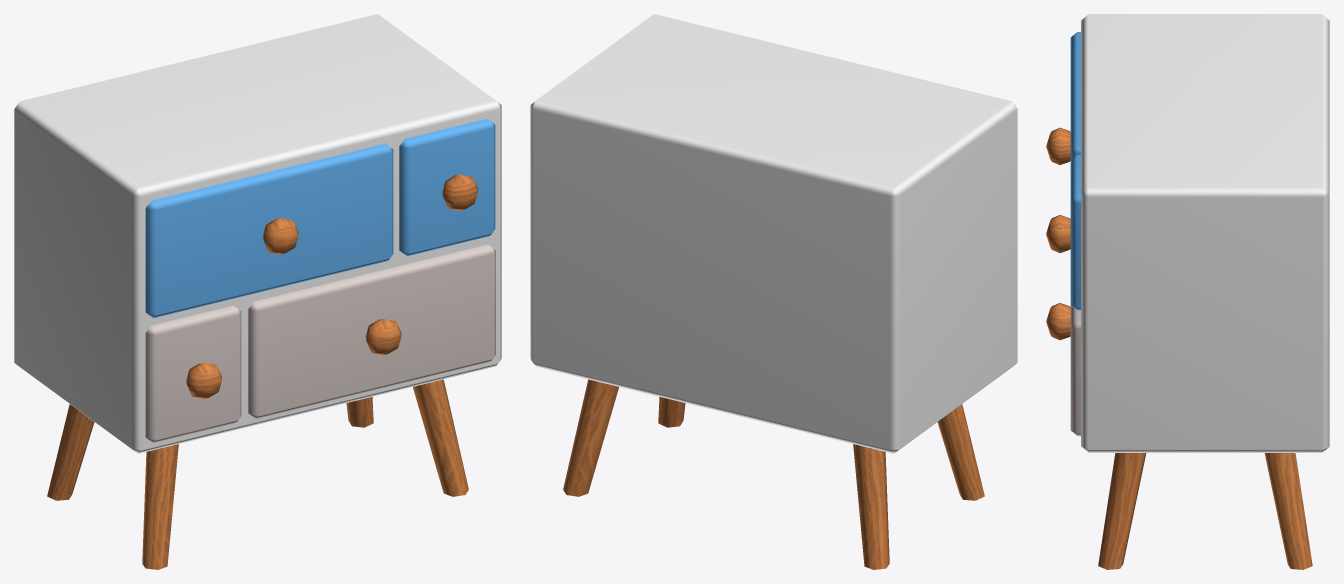
Rendered from dresser_017.fbx.
The picture shows the model from 3 angles, left to right: view 1: azimuth 30°, elevation 25°; view 2: azimuth 150°, elevation 25°; view 3: azimuth 270°, elevation 25°; orthographic projection.
Parts seen in each view (by area): view 1: dresser_017; view 2: dresser_017; view 3: dresser_017.
Part boxes in pixels (x1,y1,x2,y2): dresser_017: (14,14,501,569); dresser_017: (530,14,1017,569); dresser_017: (1046,14,1329,569).
Bounding box in the file's own units: 86.66 × 57.77 × 88.01.
